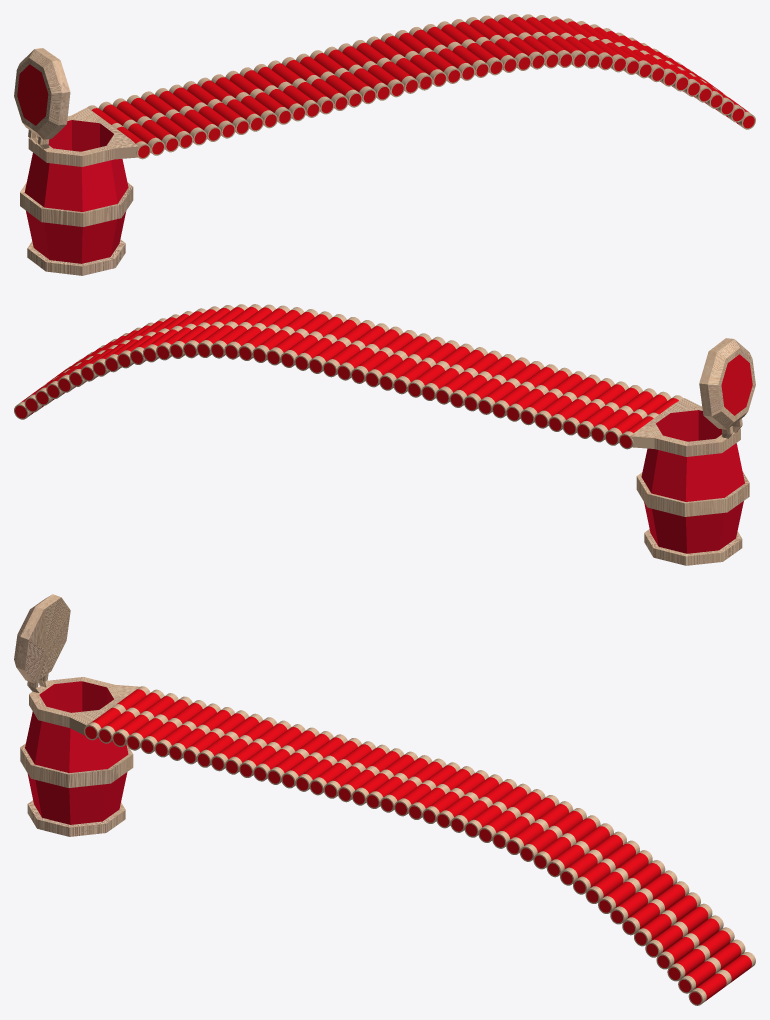
The model's file is decoration-64f.glb.
The picture shows the model from 3 angles, top to bottom: view 1: azimuth 30°, elevation 25°; view 2: azimuth 150°, elevation 25°; view 3: azimuth 330°, elevation 25°; orthographic projection.
Parts seen in each view (by area): view 1: Material_009-material, Material_004-material, Material_008-material, Material_002-material, Material_005-material, Material_007-material; view 2: Material_009-material, Material_004-material, Material_008-material, Material_002-material, Material_005-material, Material_007-material; view 3: Material_009-material, Material_004-material, Material_008-material, Material_002-material, Material_005-material.
Part boxes in pixels (x1,y1,x2,y2): Material_009-material: [91, 17, 754, 157]; Material_004-material: [87, 14, 755, 159]; Material_008-material: [24, 120, 128, 263]; Material_002-material: [20, 107, 138, 275]; Material_005-material: [14, 48, 70, 149]; Material_007-material: [17, 64, 48, 125]; Material_009-material: [15, 307, 678, 447]; Material_004-material: [14, 304, 682, 449]; Material_008-material: [641, 410, 744, 553]; Material_002-material: [630, 398, 749, 565]; Material_005-material: [699, 338, 755, 438]; Material_007-material: [721, 354, 752, 415]; Material_009-material: [85, 689, 751, 1004]; Material_004-material: [84, 686, 755, 1005]; Material_008-material: [25, 681, 128, 824]; Material_002-material: [20, 677, 139, 836]; Material_005-material: [14, 594, 70, 692].
Bounding box in the file's own units: 35.82 × 10.77 × 4.71.
4 materials, 1 textured.
